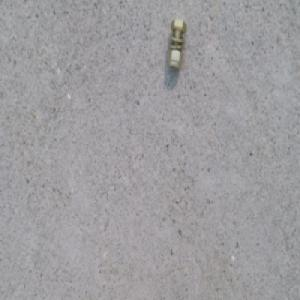BoltNutSet: (165, 18, 188, 68)
